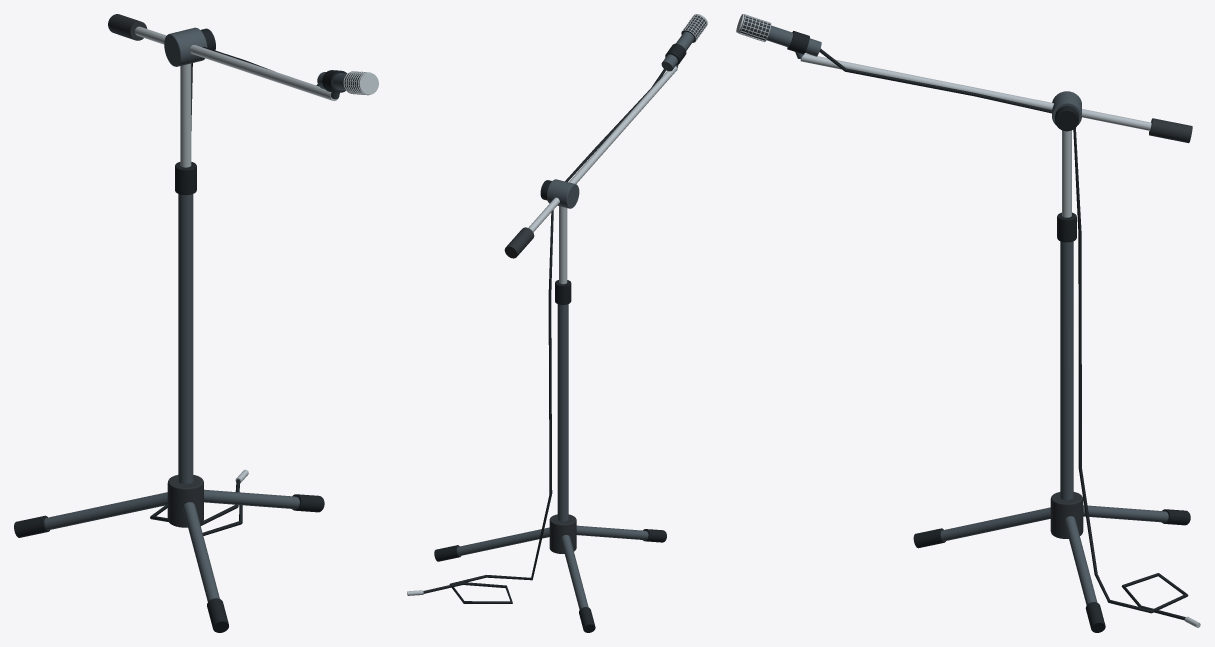
Rendered from city-boom-microphone-stand.glb.
3 renders of one model, left to right at view 1: azimuth 30°, elevation 25°; view 2: azimuth 150°, elevation 25°; view 3: azimuth 270°, elevation 25°, orthographic. The views are drawn at different scales.
Parts seen in each view (by area): view 1: Assembly | Dark slate equipment housing, Assembly | Satin support metal, Assembly | Soft black grip and cable, Assembly | Graphite cloth and trim; view 2: Assembly | Dark slate equipment housing, Assembly | Soft black grip and cable, Assembly | Satin support metal, Assembly | Graphite cloth and trim; view 3: Assembly | Dark slate equipment housing, Assembly | Soft black grip and cable, Assembly | Satin support metal, Assembly | Graphite cloth and trim.
Boxes of the visible parts, x1,y1,x2,y2 form: Assembly | Dark slate equipment housing: [44, 27, 346, 601]; Assembly | Satin support metal: [135, 26, 378, 482]; Assembly | Soft black grip and cable: [14, 28, 346, 632]; Assembly | Graphite cloth and trim: [108, 14, 360, 527]; Assembly | Dark slate equipment housing: [457, 31, 694, 609]; Assembly | Soft black grip and cable: [423, 43, 686, 632]; Assembly | Satin support metal: [407, 14, 707, 595]; Assembly | Graphite cloth and trim: [504, 15, 706, 553]; Assembly | Dark slate equipment housing: [766, 25, 1168, 605]; Assembly | Soft black grip and cable: [787, 31, 1190, 632]; Assembly | Satin support metal: [736, 14, 1200, 627]; Assembly | Graphite cloth and trim: [738, 15, 1192, 538].
Bounding box in the file's own units: 0.7628 × 1.74 × 1.32.
